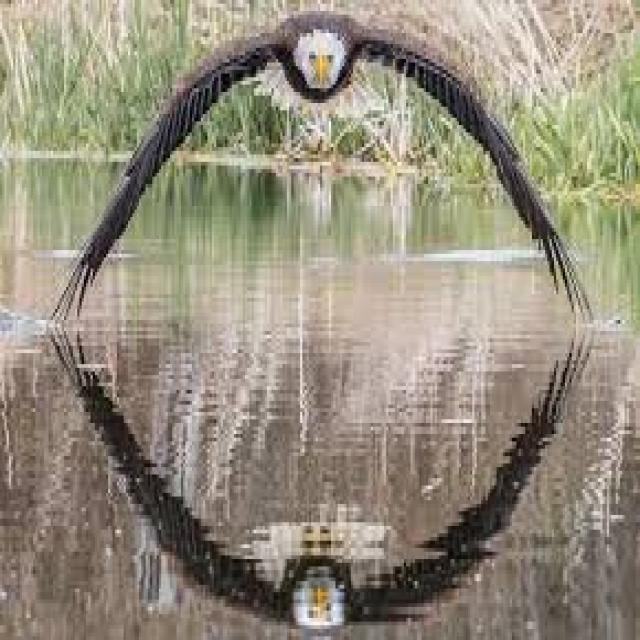Eagle: (58, 8, 590, 308)
